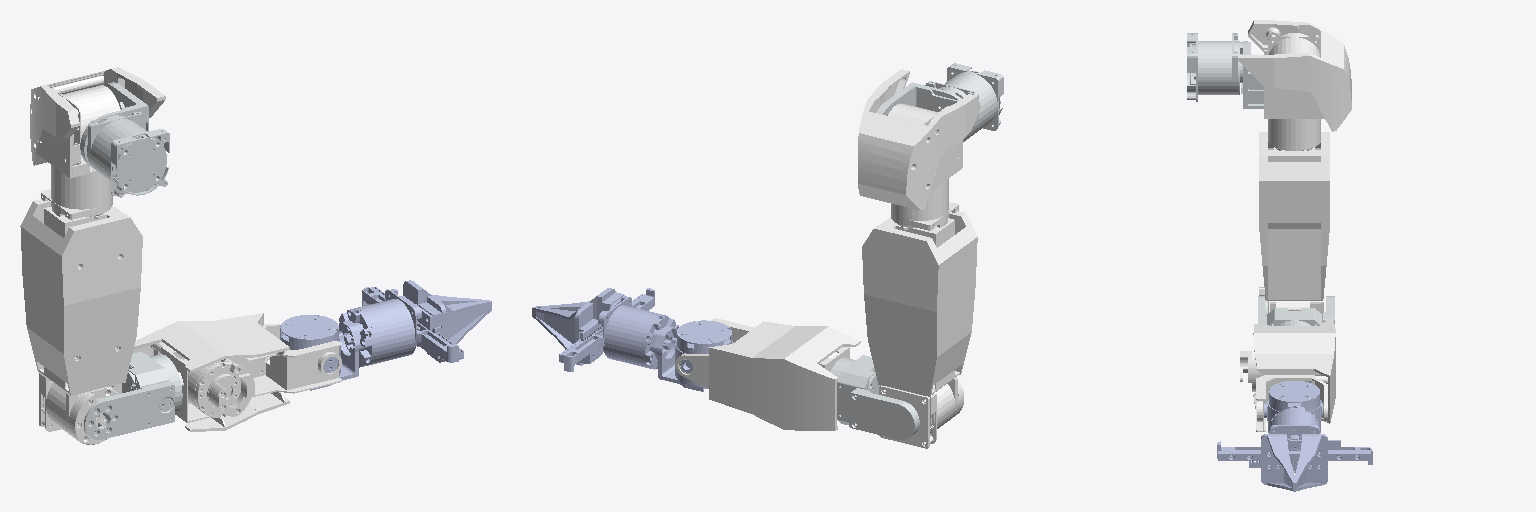
URDF robot description (X7leftA):
<?xml version="1.0" encoding="utf-8"?>
<!-- This URDF was automatically created by SolidWorks to URDF Exporter! Originally created by [author] ([email redacted]) 
     Commit Version: 1.6.0-4-g7f85cfe  Build Version: 1.6.7995.38578
     For more information, please see http://wiki.ros.org/sw_urdf_exporter -->
<robot
  name="X7leftA">
  <link
    name="base_link">
    <inertial>
      <origin
        xyz="1.2504E-08 0.028434 0.00042549"
        rpy="0 0 0" />
      <mass
        value="0.41722" />
      <inertia
        ixx="0.00019"
        ixy="0.00000"
        ixz="0.00000"
        iyy="0.00020"
        iyz="0.00000"
        izz="0.00019" />
    </inertial>
    <visual>
      <origin
        xyz="0 0 0"
        rpy="0 0 0" />
      <geometry>
        <mesh
          filename="package://X7leftA/meshes/base_link.STL" />
      </geometry>
      <material
        name="">
        <color
          rgba="0.89804 0.91765 0.92941 1" />
      </material>
    </visual>
    <collision>
      <origin
        xyz="0 0 0"
        rpy="0 0 0" />
      <geometry>
        <mesh
          filename="package://X7leftA/meshes/base_link.STL" />
      </geometry>
    </collision>
  </link>
  <link
    name="link1">
    <inertial>
      <origin
        xyz="0.020311877665791 0.0282074621926083 -0.000172803675324382"
        rpy="0 0 0" />
      <mass
        value="0.131891884746085" />
      <inertia
        ixx="0.00012"
        ixy="0.00004"
        ixz="0.00000"
        iyy="0.00009"
        iyz="0.00000"
        izz="0.00014" />
    </inertial>
    <visual>
      <origin
        xyz="0 0 0"
        rpy="0 0 0" />
      <geometry>
        <mesh
          filename="package://X7leftA/meshes/link1.STL" />
      </geometry>
      <material
        name="">
        <color
          rgba="0.898039215686275 0.917647058823529 0.929411764705882 1" />
      </material>
    </visual>
    <collision>
      <origin
        xyz="0 0 0"
        rpy="0 0 0" />
      <geometry>
        <mesh
          filename="package://X7leftA/meshes/link1.STL" />
      </geometry>
    </collision>
  </link>
  <joint
    name="joint1"
    type="revolute">
    <origin
      xyz="0 0.05315 0"
      rpy="0 0 0" />
    <parent
      link="base_link" />
    <child
      link="link1" />
    <axis
      xyz="0 1 0" />
    <limit
      lower="-10"
      upper="10"
      effort="100"
      velocity="1000" />
  </joint>
  <link
    name="link2">
    <inertial>
      <origin
        xyz="0.0247335917011989 -0.00274560185380487 -0.027134395786836"
        rpy="0 0 0" />
      <mass
        value="0.971762138327377" />
      <inertia
        ixx="0.00153"
        ixy="0.00002"
        ixz="-0.00007"
        iyy="0.00153"
        iyz="-0.00002"
        izz="0.00074" />
    </inertial>
    <visual>
      <origin
        xyz="0 0 0"
        rpy="0 0 0" />
      <geometry>
        <mesh
          filename="package://X7leftA/meshes/link2.STL" />
      </geometry>
      <material
        name="">
        <color
          rgba="1 1 1 1" />
      </material>
    </visual>
    <collision>
      <origin
        xyz="0 0 0"
        rpy="0 0 0" />
      <geometry>
        <mesh
          filename="package://X7leftA/meshes/link2.STL" />
      </geometry>
    </collision>
  </link>
  <joint
    name="joint2"
    type="revolute">
    <origin
      xyz="0.02725 0.063 0"
      rpy="0 0 3.1416" />
    <parent
      link="link1" />
    <child
      link="link2" />
    <axis
      xyz="1 0 0" />
    <limit
      lower="-10"
      upper="10"
      effort="100"
      velocity="1000" />
  </joint>
  <link
    name="link3">
    <inertial>
      <origin
        xyz="-0.000221571129409272 0.00055401047728823 0.154388906739316"
        rpy="0 0 0" />
      <mass
        value="0.868202345580011" />
      <inertia
        ixx="0.00529"
        ixy="-0.00001"
        ixz="-0.00005"
        iyy="0.00553"
        iyz="0.00003"
        izz="0.00078" />
    </inertial>
    <visual>
      <origin
        xyz="0 0 0"
        rpy="0 0 0" />
      <geometry>
        <mesh
          filename="package://X7leftA/meshes/link3.STL" />
      </geometry>
      <material
        name="">
        <color
          rgba="1 1 1 1" />
      </material>
    </visual>
    <collision>
      <origin
        xyz="0 0 0"
        rpy="0 0 0" />
      <geometry>
        <mesh
          filename="package://X7leftA/meshes/link3.STL" />
      </geometry>
    </collision>
  </link>
  <joint
    name="joint3"
    type="revolute">
    <origin
      xyz="0.02725 0 -0.0885"
      rpy="-3.1416 0 -3.1416" />
    <parent
      link="link2" />
    <child
      link="link3" />
    <axis
      xyz="0 0 1" />
    <limit
      lower="-10"
      upper="10"
      effort="100"
      velocity="1000" />
  </joint>
  <link
    name="link4">
    <inertial>
      <origin
        xyz="0.0609931749498278 -0.0243615233623463 3.20631404896465E-05"
        rpy="0 0 0" />
      <mass
        value="0.483750765199191" />
      <inertia
        ixx="0.00037"
        ixy="-0.00001"
        ixz="0.00000"
        iyy="0.00043"
        iyz="0.00000"
        izz="0.00058" />
    </inertial>
    <visual>
      <origin
        xyz="0 0 0"
        rpy="0 0 0" />
      <geometry>
        <mesh
          filename="package://X7leftA/meshes/link4.STL" />
      </geometry>
      <material
        name="">
        <color
          rgba="0.898039215686275 0.917647058823529 0.929411764705882 1" />
      </material>
    </visual>
    <collision>
      <origin
        xyz="0 0 0"
        rpy="0 0 0" />
      <geometry>
        <mesh
          filename="package://X7leftA/meshes/link4.STL" />
      </geometry>
    </collision>
  </link>
  <joint
    name="joint4"
    type="revolute">
    <origin
      xyz="0 0.02625 0.2145"
      rpy="0 0 0" />
    <parent
      link="link3" />
    <child
      link="link4" />
    <axis
      xyz="0 1 0" />
    <limit
      lower="-10"
      upper="10"
      effort="100"
      velocity="1000" />
  </joint>
  <link
    name="link5">
    <inertial>
      <origin
        xyz="0.0527279325382702 -0.00868845688291262 -2.92074355756067E-05"
        rpy="0 0 0" />
      <mass
        value="0.585542044845075" />
      <inertia
        ixx="0.00058"
        ixy="0.00007"
        ixz="0.00000"
        iyy="0.00093"
        iyz="0.00000"
        izz="0.00108" />
    </inertial>
    <visual>
      <origin
        xyz="0 0 0"
        rpy="0 0 0" />
      <geometry>
        <mesh
          filename="package://X7leftA/meshes/link5.STL" />
      </geometry>
      <material
        name="">
        <color
          rgba="1 1 1 1" />
      </material>
    </visual>
    <collision>
      <origin
        xyz="0 0 0"
        rpy="0 0 0" />
      <geometry>
        <mesh
          filename="package://X7leftA/meshes/link5.STL" />
      </geometry>
    </collision>
  </link>
  <joint
    name="joint5"
    type="revolute">
    <origin
      xyz="0.0935 -0.02625 0"
      rpy="-3.1416 0 0" />
    <parent
      link="link4" />
    <child
      link="link5" />
    <axis
      xyz="1 0 0" />
    <limit
      lower="-10"
      upper="10"
      effort="100"
      velocity="1000" />
  </joint>
  <link
    name="link6">
    <inertial>
      <origin
        xyz="-4.56578061923674E-05 -0.0392589323429183 0.00112421819005831"
        rpy="0 0 0" />
      <mass
        value="0.339715469407624" />
      <inertia
        ixx="0.00014"
        ixy="0.00000"
        ixz="0.00000"
        iyy="0.00012"
        iyz="0.00000"
        izz="0.00016" />
    </inertial>
    <visual>
      <origin
        xyz="0 0 0"
        rpy="0 0 0" />
      <geometry>
        <mesh
          filename="package://X7leftA/meshes/link6.STL" />
      </geometry>
      <material
        name="">
        <color
          rgba="0.792156862745098 0.819607843137255 0.933333333333333 1" />
      </material>
    </visual>
    <collision>
      <origin
        xyz="0 0 0"
        rpy="0 0 0" />
      <geometry>
        <mesh
          filename="package://X7leftA/meshes/link6.STL" />
      </geometry>
    </collision>
  </link>
  <joint
    name="joint6"
    type="revolute">
    <origin
      xyz="0.1615 -0.04025 0"
      rpy="-3.1416 0 0" />
    <parent
      link="link5" />
    <child
      link="link6" />
    <axis
      xyz="0 1 0" />
    <limit
      lower="-10"
      upper="10"
      effort="100"
      velocity="1000" />
  </joint>
  <link
    name="link7">
    <inertial>
      <origin
        xyz="0.0904376753475253 -4.59300094023118E-05 0.0203282088603868"
        rpy="0 0 0" />
      <mass
        value="0.600472510680938" />
      <inertia
        ixx="0.00049"
        ixy="0.00000"
        ixz="0.00008"
        iyy="0.00078"
        iyz="0.00000"
        izz="0.00102" />
    </inertial>
    <visual>
      <origin
        xyz="0 0 0"
        rpy="0 0 0" />
      <geometry>
        <mesh
          filename="package://X7leftA/meshes/link7.STL" />
      </geometry>
      <material
        name="">
        <color
          rgba="0.792156862745098 0.819607843137255 0.933333333333333 1" />
      </material>
    </visual>
    <collision>
      <origin
        xyz="0 0 0"
        rpy="0 0 0" />
      <geometry>
        <mesh
          filename="package://X7leftA/meshes/link7.STL" />
      </geometry>
    </collision>
  </link>
  <joint
    name="joint7"
    type="revolute">
    <origin
      xyz="0 -0.04025 0.022"
      rpy="3.1416 0 0" />
    <parent
      link="link6" />
    <child
      link="link7" />
    <axis
      xyz="0 0 -1" />
    <limit
      lower="-10"
      upper="10"
      effort="100"
      velocity="1000" />
  </joint>
</robot>

--- Facts derived from the render (not from the file) ---
Views: 3 orthographic renders of the robot side by side, from view 1: azimuth 30°, elevation 25°; view 2: azimuth 150°, elevation 25°; view 3: azimuth 270°, elevation 25°.
Robot: X7leftA — 8 links, 7 joints (7 revolute); root link base_link; default pose: every joint at zero.
Links seen in each view (by area): view 1: link3, link5, link2, link7, base_link, link4, link6, link1; view 2: link3, link5, link2, link7, link4, base_link, link6, link1; view 3: link3, link2, link5, link7, base_link, link6, link4, link1.
Boxes of the visible links, bbox=[...] form: link3: bbox=[20, 199, 142, 444]; link5: bbox=[133, 313, 341, 431]; link2: bbox=[30, 67, 165, 219]; link7: bbox=[310, 280, 491, 390]; base_link: bbox=[87, 112, 169, 197]; link4: bbox=[84, 352, 182, 439]; link6: bbox=[279, 315, 340, 375]; link1: bbox=[80, 82, 148, 168]; link3: bbox=[862, 211, 977, 448]; link5: bbox=[675, 318, 860, 430]; link2: bbox=[858, 69, 980, 230]; link7: bbox=[532, 288, 707, 391]; link4: bbox=[830, 355, 919, 439]; base_link: bbox=[925, 63, 1003, 138]; link6: bbox=[675, 320, 732, 386]; link1: bbox=[876, 82, 971, 141]; link3: bbox=[1259, 132, 1329, 315]; link2: bbox=[1238, 20, 1351, 150]; link5: bbox=[1240, 319, 1335, 431]; link7: bbox=[1217, 406, 1372, 491]; base_link: bbox=[1187, 33, 1242, 101]; link6: bbox=[1264, 381, 1322, 432]; link4: bbox=[1258, 296, 1334, 325]; link1: bbox=[1240, 41, 1263, 108].
Size in the robot's own frame: 0.5028 by 0.2065 by 0.3821 metres.
8 mesh visuals loaded from 8 distinct referenced files (8 binary STL).